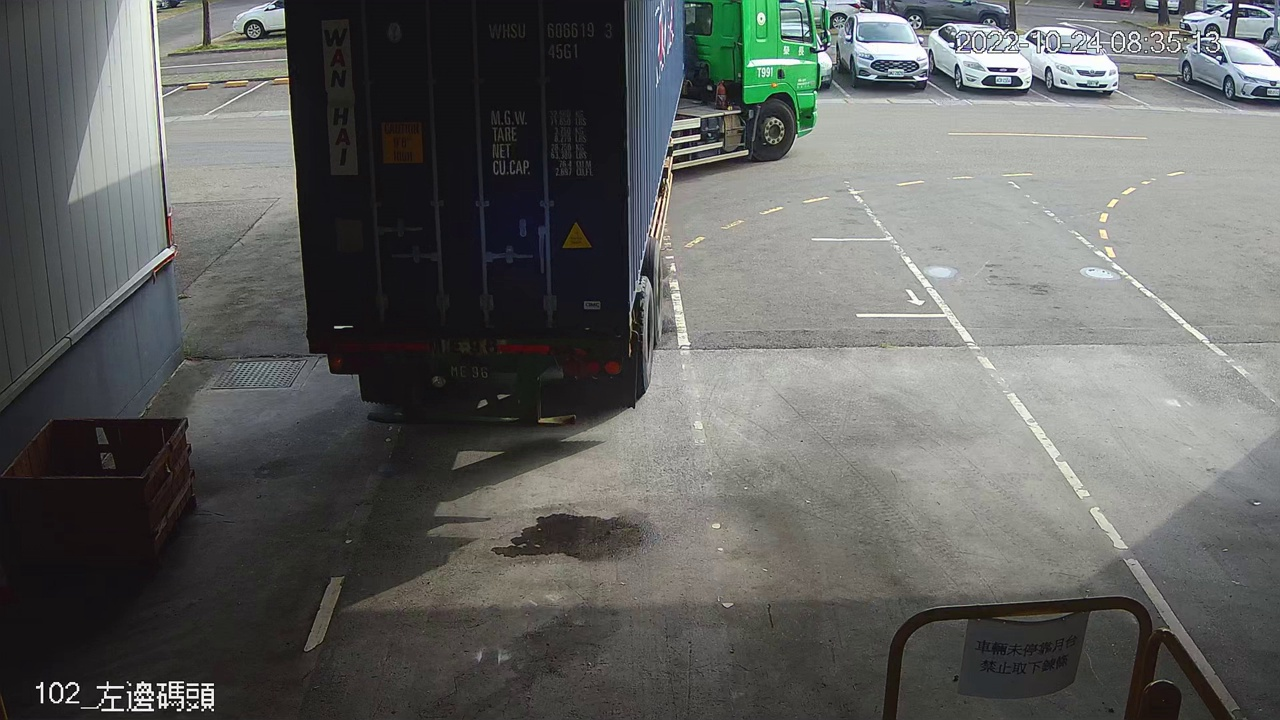container: (479, 13, 621, 67)
